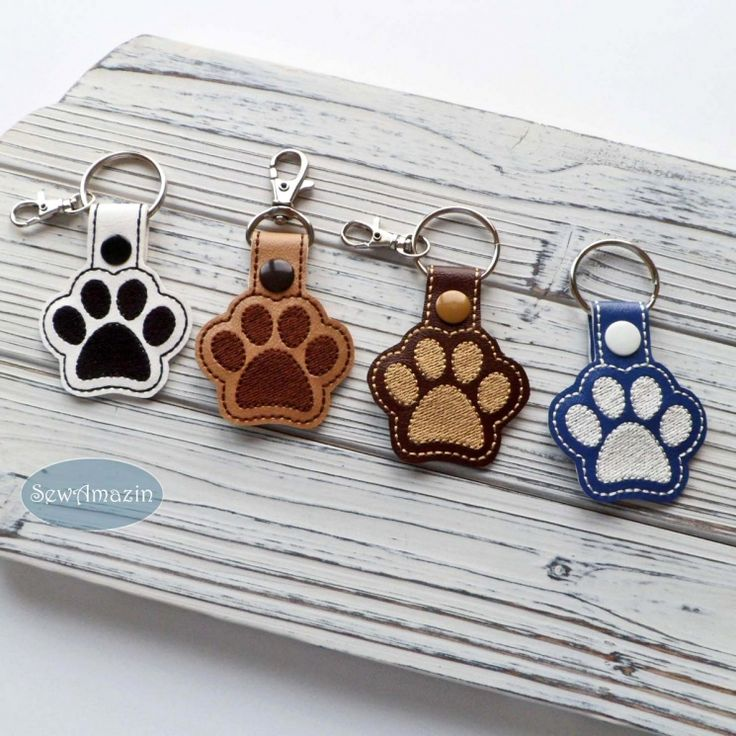cuero: (37, 202, 708, 504)
